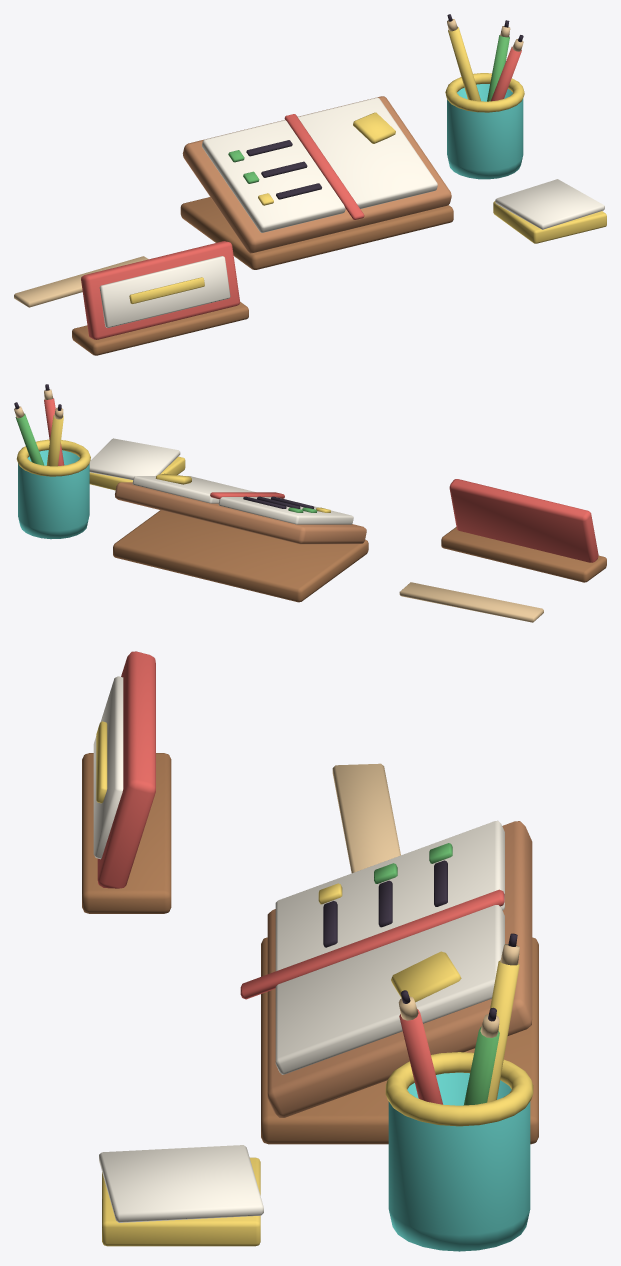
The model's file is own-student-desk-kit.glb.
3 renders of one model, top to bottom at view 1: azimuth 30°, elevation 25°; view 2: azimuth 150°, elevation 25°; view 3: azimuth 270°, elevation 25°, orthographic. The views are drawn at different scales.
Visible parts, largest first — view 1: IntOwnDesk_PagesCard, IntOwnDesk_WoodStand, IntOwnDesk_CoralAccents, IntOwnDesk_BinderCover, IntOwnDesk_ButterNotes, IntOwnDesk_PencilCup, IntOwnDesk_WoodLight, IntOwnDesk_InkLines, IntOwnDesk_GreenChecks; view 2: IntOwnDesk_WoodStand, IntOwnDesk_CoralAccents, IntOwnDesk_PagesCard, IntOwnDesk_BinderCover, IntOwnDesk_PencilCup, IntOwnDesk_ButterNotes, IntOwnDesk_WoodLight, IntOwnDesk_GreenChecks, IntOwnDesk_InkLines; view 3: IntOwnDesk_PagesCard, IntOwnDesk_PencilCup, IntOwnDesk_WoodStand, IntOwnDesk_ButterNotes, IntOwnDesk_BinderCover, IntOwnDesk_CoralAccents, IntOwnDesk_WoodLight, IntOwnDesk_GreenChecks, IntOwnDesk_InkLines.
Part boxes in pixels (x1=…): IntOwnDesk_PagesCard: x1=99, y1=97, x2=604, y2=327; IntOwnDesk_WoodStand: x1=72, y1=197, x2=453, y2=355; IntOwnDesk_CoralAccents: x1=81, y1=46, x2=521, y2=339; IntOwnDesk_BinderCover: x1=182, y1=96, x2=451, y2=253; IntOwnDesk_ButterNotes: x1=129, y1=27, x2=606, y2=303; IntOwnDesk_PencilCup: x1=447, y1=84, x2=523, y2=179; IntOwnDesk_WoodLight: x1=14, y1=19, x2=523, y2=307; IntOwnDesk_InkLines: x1=246, y1=14, x2=523, y2=199; IntOwnDesk_GreenChecks: x1=228, y1=35, x2=509, y2=183; IntOwnDesk_WoodStand: x1=113, y1=510, x2=606, y2=602; IntOwnDesk_CoralAccents: x1=44, y1=398, x2=598, y2=562; IntOwnDesk_PagesCard: x1=89, y1=438, x2=353, y2=524; IntOwnDesk_BinderCover: x1=115, y1=482, x2=366, y2=544; IntOwnDesk_PencilCup: x1=18, y1=450, x2=89, y2=539; IntOwnDesk_ButterNotes: x1=16, y1=415, x2=330, y2=512; IntOwnDesk_WoodLight: x1=14, y1=389, x2=543, y2=622; IntOwnDesk_GreenChecks: x1=15, y1=413, x2=317, y2=512; IntOwnDesk_InkLines: x1=14, y1=384, x2=314, y2=508; IntOwnDesk_PagesCard: x1=93, y1=676, x2=504, y2=1222; IntOwnDesk_PencilCup: x1=388, y1=1072, x2=530, y2=1251; IntOwnDesk_WoodStand: x1=82, y1=753, x2=538, y2=1144; IntOwnDesk_ButterNotes: x1=96, y1=721, x2=533, y2=1246; IntOwnDesk_BinderCover: x1=267, y1=821, x2=532, y2=1117; IntOwnDesk_CoralAccents: x1=97, y1=651, x2=504, y2=1104; IntOwnDesk_WoodLight: x1=332, y1=763, x2=519, y2=1037; IntOwnDesk_GreenChecks: x1=374, y1=843, x2=499, y2=1105; IntOwnDesk_InkLines: x1=323, y1=860, x2=517, y2=1021.
Bounding box in the file's own units: 1.15 × 0.2999 × 0.46.
